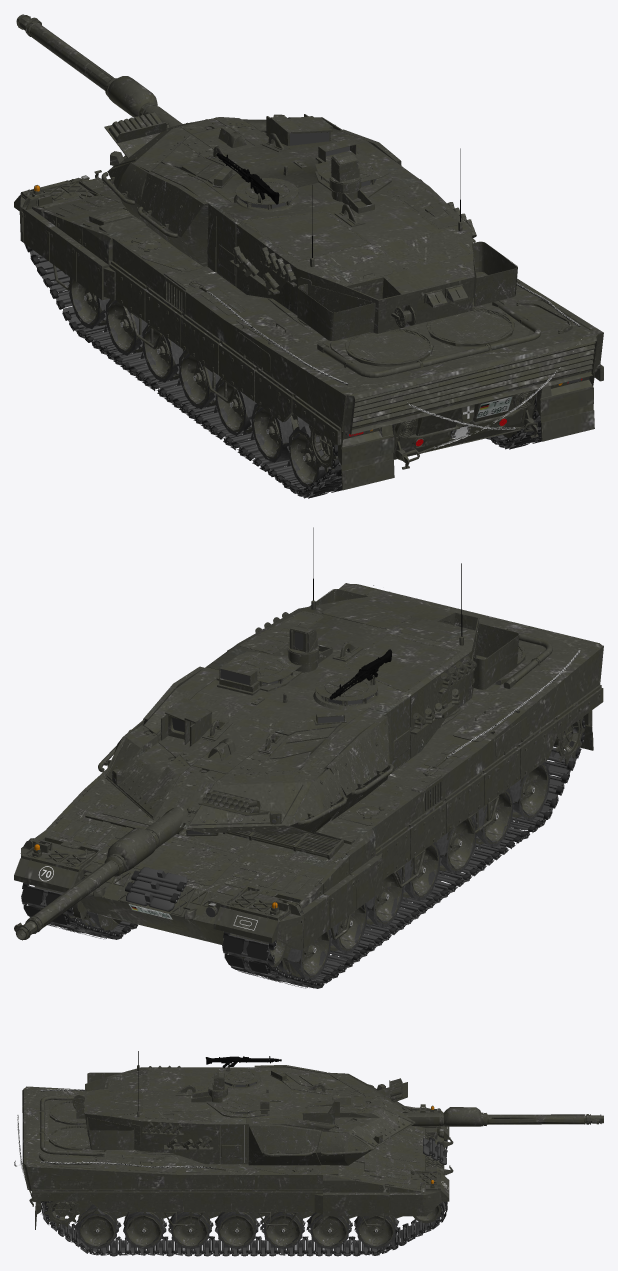
The model's file is leo2a6.glb.
The picture shows the model from 3 angles, top to bottom: view 1: azimuth 30°, elevation 25°; view 2: azimuth 150°, elevation 25°; view 3: azimuth 270°, elevation 25°; orthographic projection. The views are drawn at different scales.
Parts seen in each view (by area): view 1: V_leo2a6__Turret_4, V_leo2a6__Body_5, V_leo2a6__Body_7, V_leo2a6__Body_6, V_leo2a6__Turret_3, V_leo2a6__Turret_5, V_leo2a6__Body_10, V_leo2a6__Gun_1, V_leo2a6__Body_8, V_leo2a6__Body_12, V_leo2a6__W11_2, V_leo2a6__W13_2 (+12 smaller); view 2: V_leo2a6__Turret_4, V_leo2a6__Body_7, V_leo2a6__Body_5, V_leo2a6__Body_6, V_leo2a6__Turret_5, V_leo2a6__Turret_3, V_leo2a6__Body_10, V_leo2a6__Gun_1, V_leo2a6__Body_8, V_leo2a6__W13_2, V_leo2a6__W09_2, V_leo2a6__W01_2 (+11 smaller); view 3: V_leo2a6__Turret_4, V_leo2a6__Body_7, V_leo2a6__Body_6, V_leo2a6__Body_5, V_leo2a6__Turret_5, V_leo2a6__Turret_3, V_leo2a6__Body_10, V_leo2a6__Gun_1, V_leo2a6__Body_8, V_leo2a6__W14_2, V_leo2a6__W12_2, V_leo2a6__W08_2 (+16 smaller).
Boxes of the visible parts, x1,y1,x2,y2 form: V_leo2a6__Turret_4: (109,117,474,333); V_leo2a6__Body_5: (14,170,598,490); V_leo2a6__Body_7: (36,185,603,431); V_leo2a6__Body_6: (19,179,603,445); V_leo2a6__Turret_3: (214,114,517,340); V_leo2a6__Turret_5: (101,112,487,294); V_leo2a6__Body_10: (29,250,541,498); V_leo2a6__Gun_1: (16,14,254,179); V_leo2a6__Body_8: (24,243,541,498); V_leo2a6__Body_12: (207,283,581,448); V_leo2a6__W11_2: (253,405,299,458); V_leo2a6__W13_2: (289,431,335,485); V_leo2a6__Turret_4: (104,594,479,835); V_leo2a6__Body_7: (42,583,603,923); V_leo2a6__Body_5: (14,584,601,954); V_leo2a6__Body_6: (20,593,603,950); V_leo2a6__Turret_5: (98,612,486,833); V_leo2a6__Turret_3: (161,589,519,746); V_leo2a6__Body_10: (22,726,582,988); V_leo2a6__Gun_1: (14,746,255,940); V_leo2a6__Body_8: (21,718,585,988); V_leo2a6__W13_2: (509,764,548,817); V_leo2a6__W09_2: (435,818,474,871); V_leo2a6__W01_2: (277,931,329,977); V_leo2a6__Turret_4: (72,1065,414,1164); V_leo2a6__Body_7: (26,1086,443,1190); V_leo2a6__Body_6: (32,1101,441,1226); V_leo2a6__Body_5: (22,1087,453,1229); V_leo2a6__Turret_5: (84,1065,412,1165); V_leo2a6__Turret_3: (87,1065,339,1149); V_leo2a6__Body_10: (41,1138,447,1255); V_leo2a6__Gun_1: (327,1095,603,1126); V_leo2a6__Body_8: (41,1137,447,1256); V_leo2a6__W14_2: (78,1205,116,1247); V_leo2a6__W12_2: (124,1212,163,1247); V_leo2a6__W08_2: (218,1212,256,1246).
Size of the model in its own units: 10.54 by 9.92 by 30.02.
24 materials, 17 textured.
